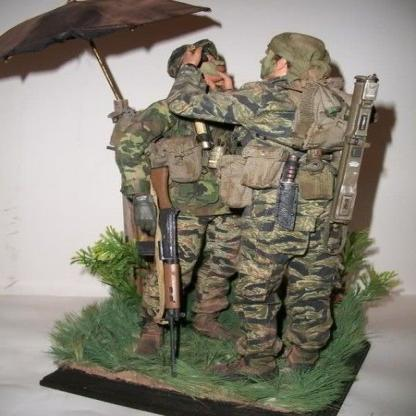Grenade: (209, 140, 228, 170)
Gun: (134, 164, 192, 379), (326, 73, 381, 225)
Knife: (274, 154, 300, 231)
